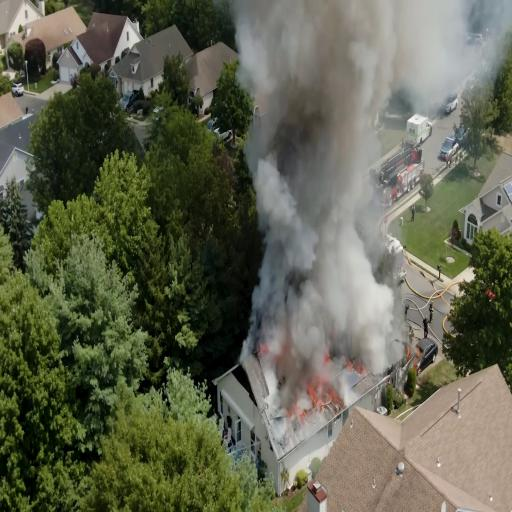smoke: (254, 1, 373, 193), (267, 204, 392, 353), (376, 0, 489, 82)
